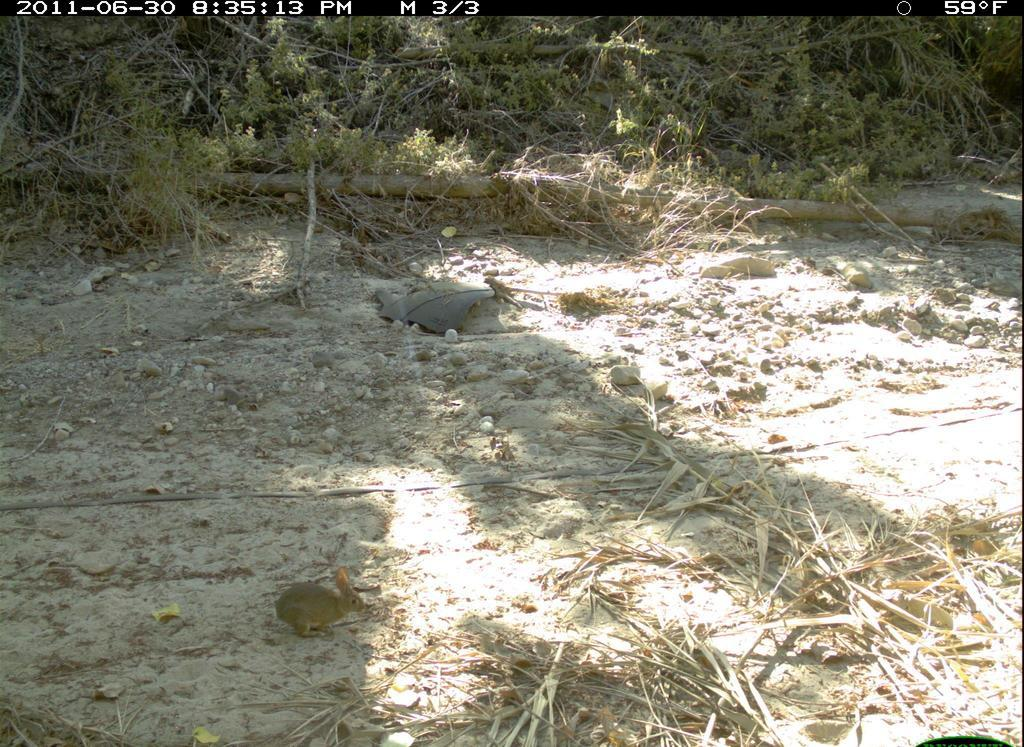rabbit: (263, 554, 375, 649)
